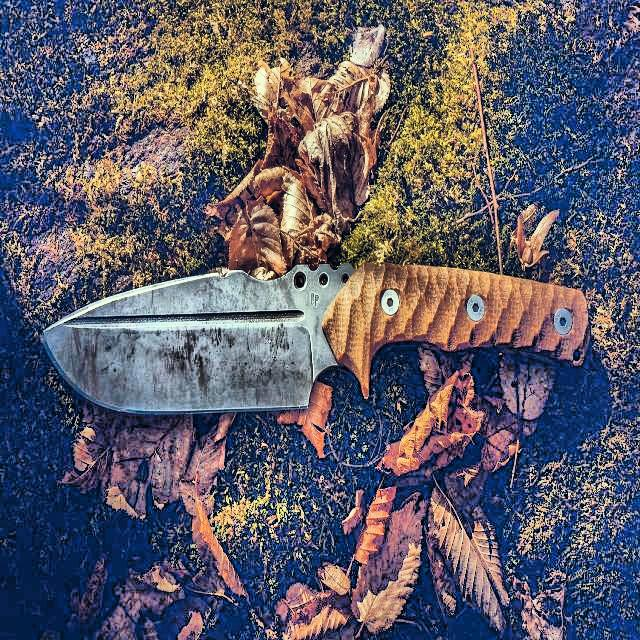knife: (40, 270, 619, 420)
